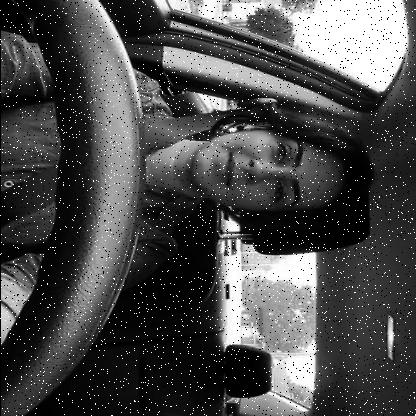seatbelt: (0, 93, 383, 274)
